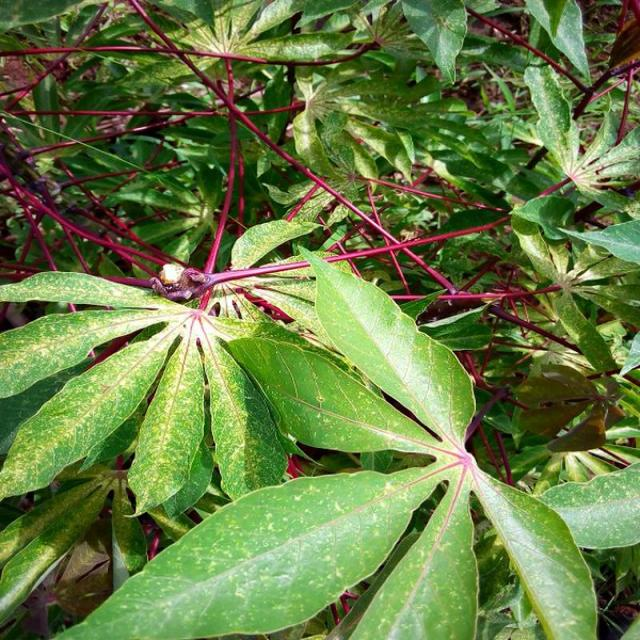cassava leaf: (49, 246, 603, 637), (52, 461, 454, 638), (296, 242, 478, 452)
